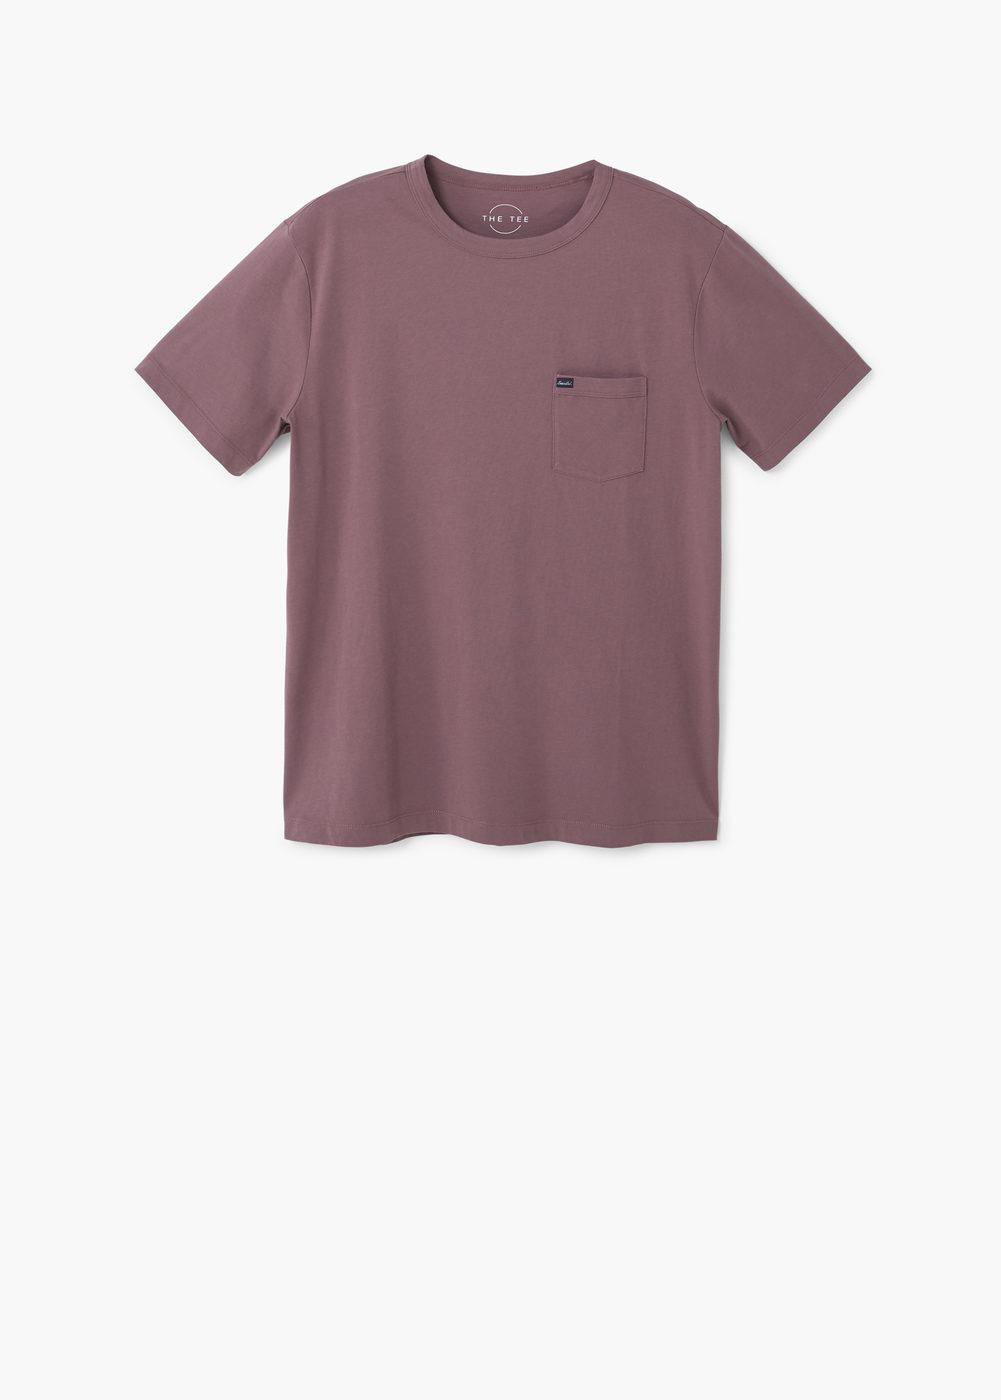teeshirt: (118, 146, 903, 910)
